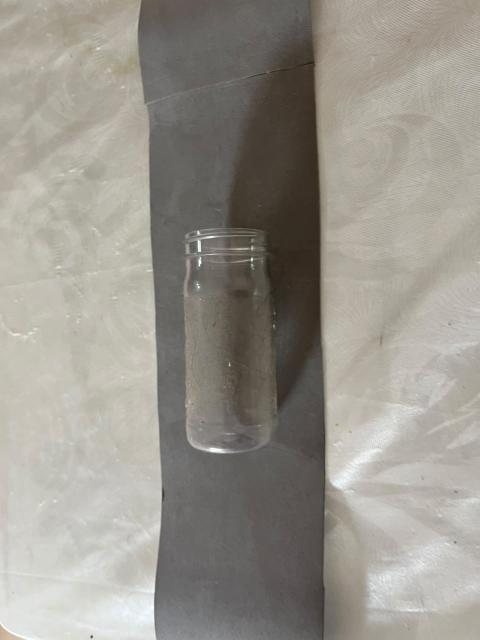PET: (150, 178, 308, 488)
